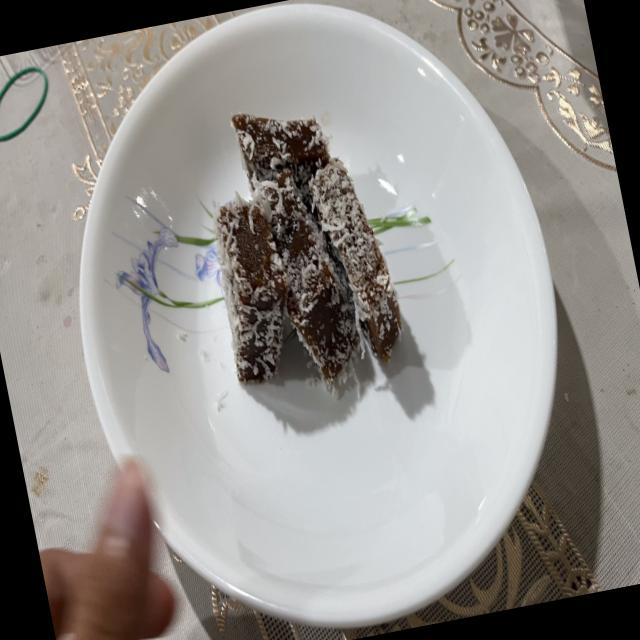kaswi: (257, 170, 360, 384), (310, 158, 402, 362), (213, 193, 288, 383), (232, 113, 330, 209)
